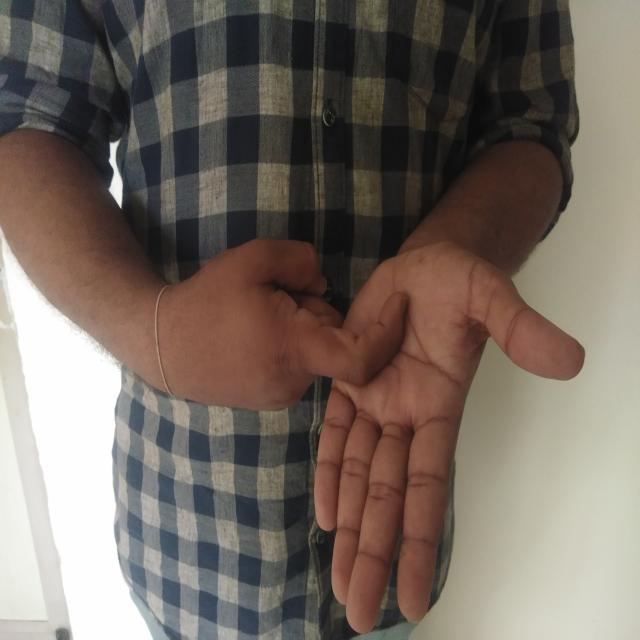R: (187, 184, 588, 640)
